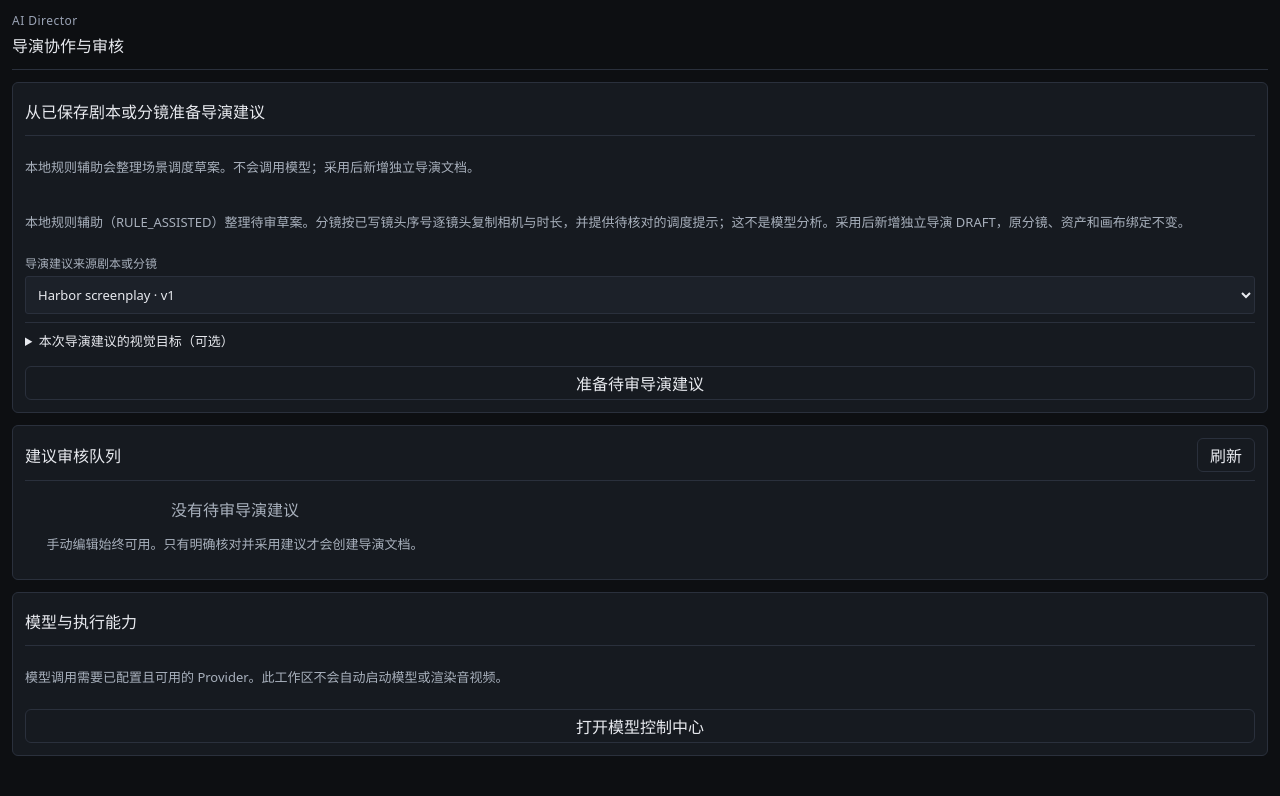
Test: director proposal activation after a fast receipt › still allows a later independent single-click to prepare another proposal
This screenshot has width=1280, height=796.
Expected: the text "没有待审导演建议" is shown, [171,499,299,521]
Click the button "准备待审导演建议". click: (640, 383)
box: [25,366,1255,400]
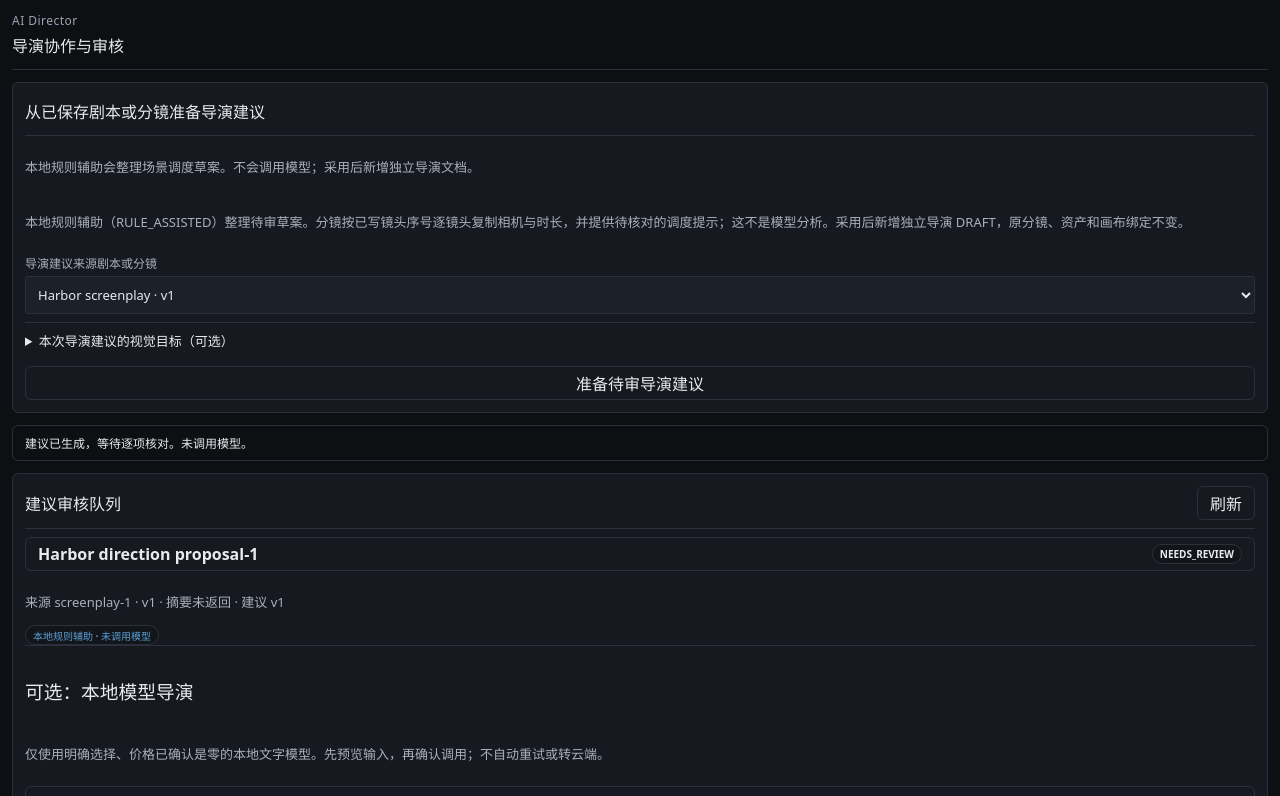
Click the button "准备待审导演建议". click: (640, 383)
box: [25,366,1255,400]
(page scrolled)
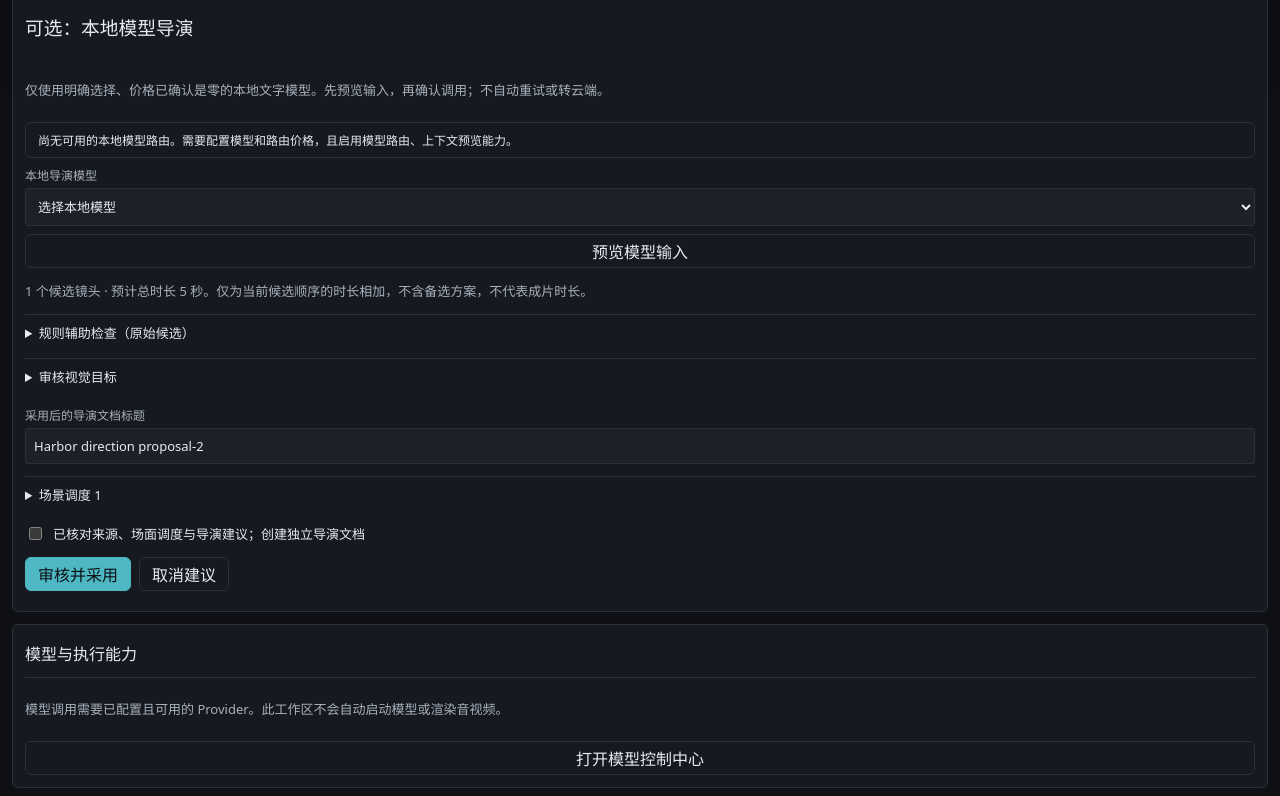
Expected: the field labelled "采用后的导演文档标题" holds "Harbor direction proposal-2", [25,428,1255,464]
